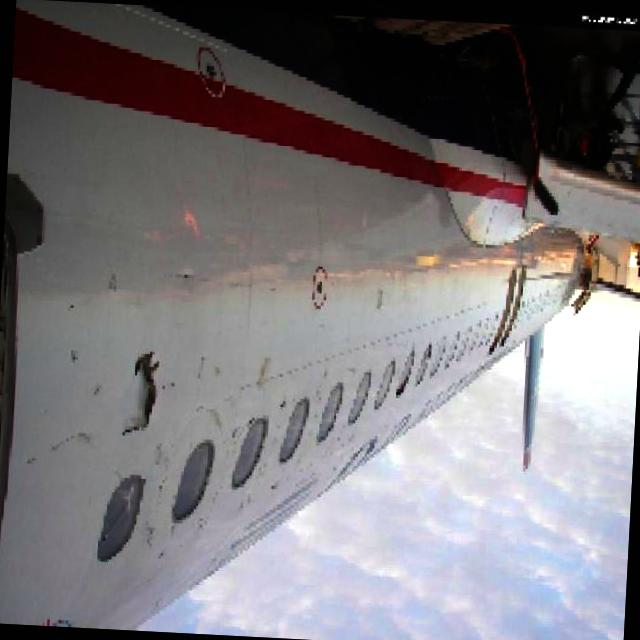crack: (116, 344, 166, 442)
